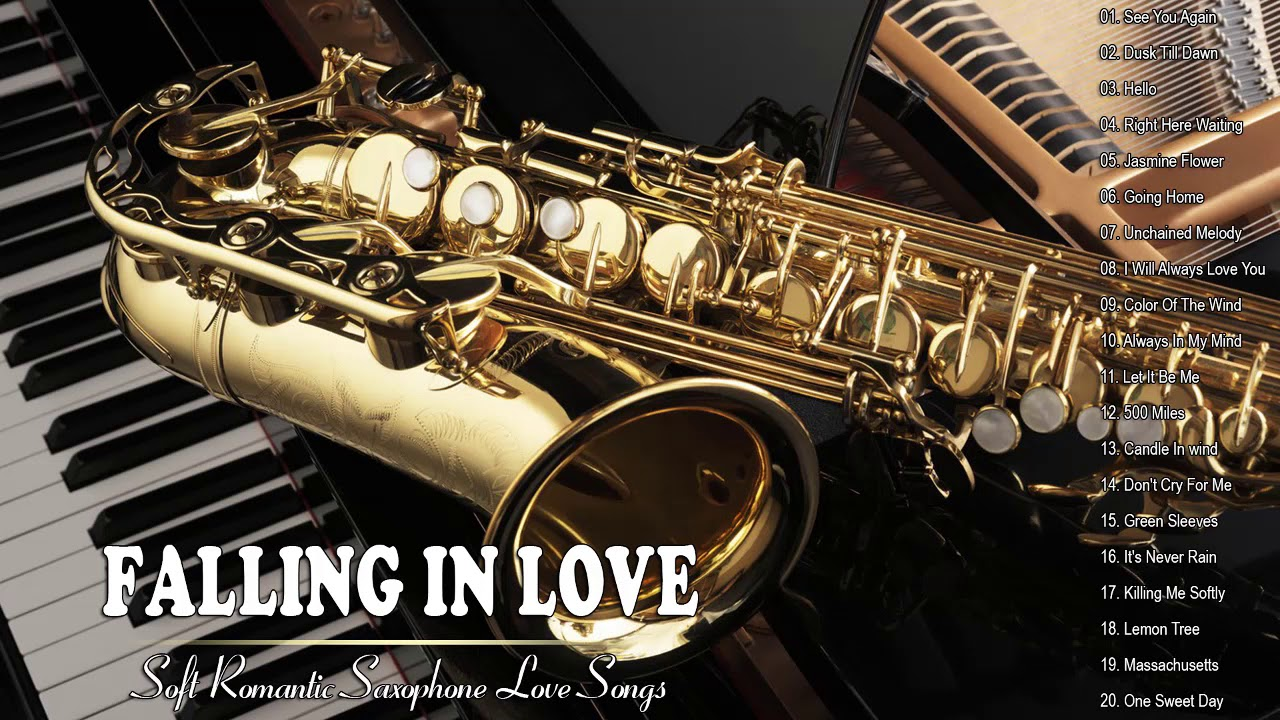Piano: (1, 46, 402, 720)
Saxophone: (63, 35, 1280, 712)
